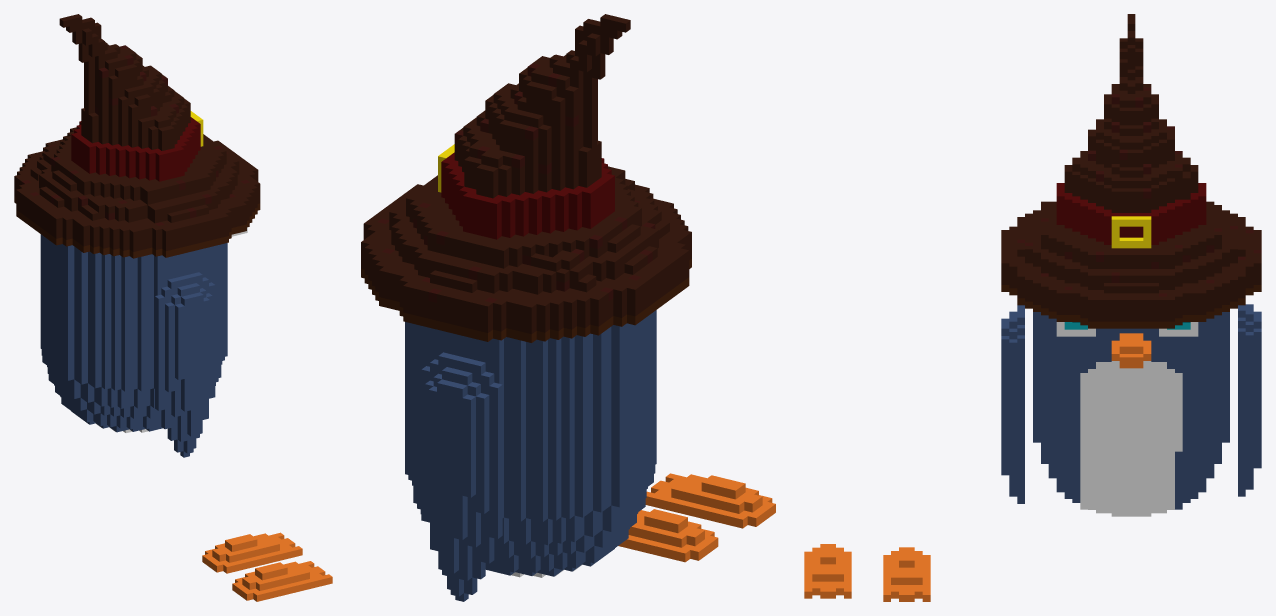
File: pingouin.obj
The picture shows the model from 3 angles, left to right: view 1: azimuth 30°, elevation 25°; view 2: azimuth 150°, elevation 25°; view 3: azimuth 270°, elevation 25°; orthographic projection. The views are drawn at different scales.
Parts seen in each view (by area): view 1: pingouin; view 2: pingouin; view 3: pingouin.
Part boxes in pixels (bbox=[...]): pingouin: bbox=[14, 14, 332, 601]; pingouin: bbox=[361, 14, 775, 601]; pingouin: bbox=[804, 14, 1261, 601].
Bounding box in the file's own units: 32 × 73 × 58.
Materials: 1 (1 with a texture image).
